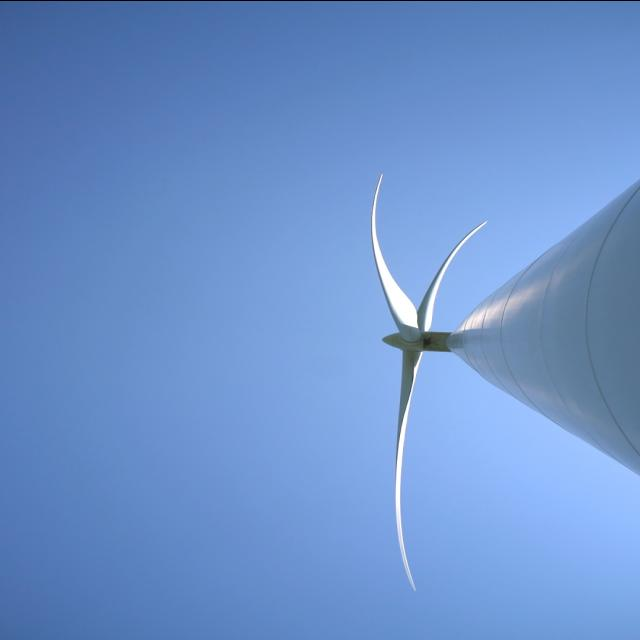blade 1: (380, 361, 430, 601)
blade 2: (362, 149, 420, 328)
blade 3: (426, 234, 491, 302)
